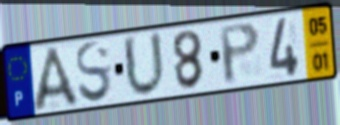4: (267, 14, 301, 80)
8: (171, 28, 207, 92)
A: (31, 44, 84, 114)
P: (217, 20, 262, 88)
S: (73, 39, 114, 106)
U: (121, 29, 168, 100)
